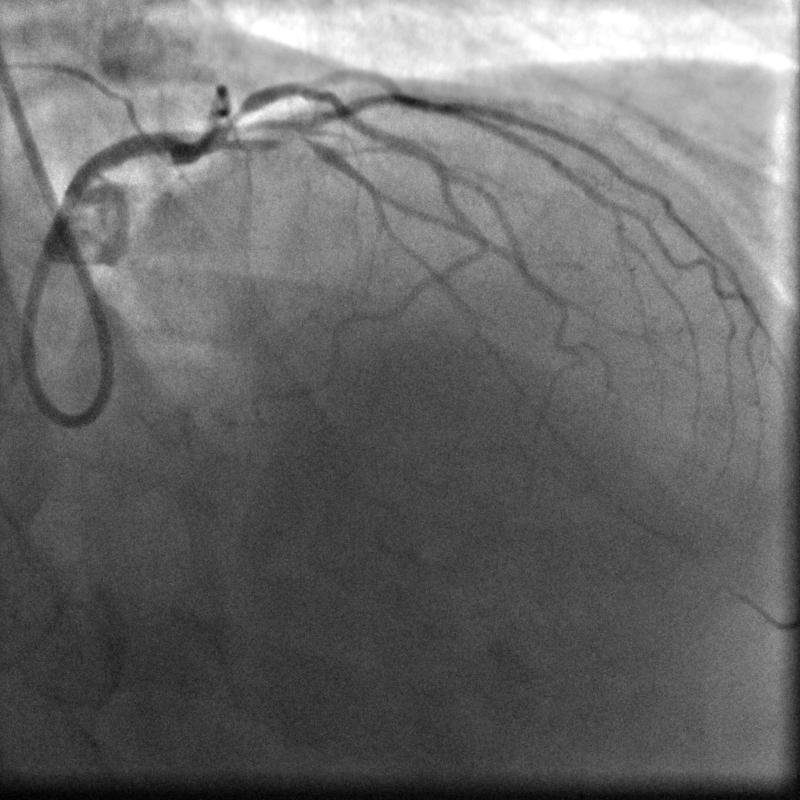Stenosis: (220, 102, 248, 134)
